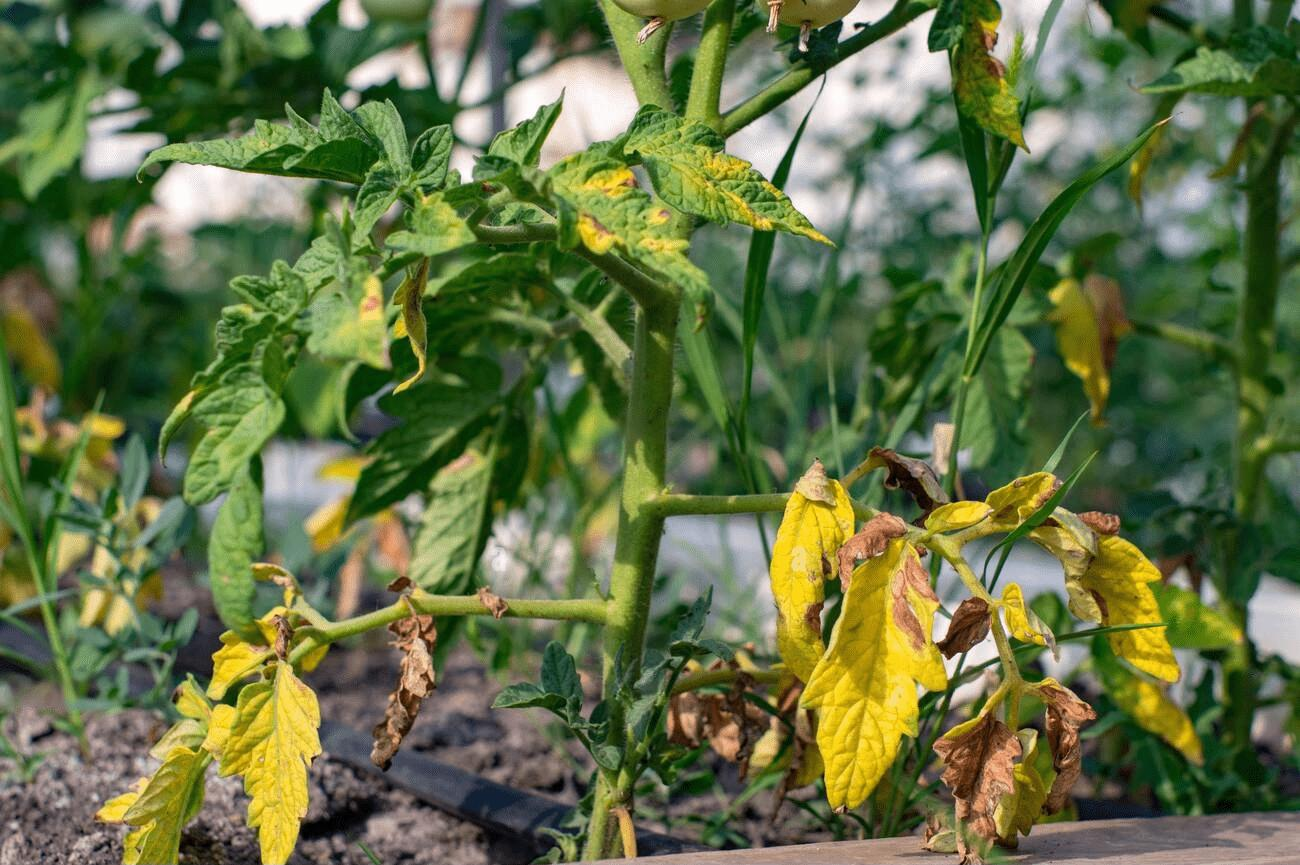Yellow Leaf Curl Virus: (796, 538, 953, 822), (622, 99, 840, 246), (1039, 486, 1186, 687), (96, 666, 238, 865), (558, 161, 719, 334), (228, 664, 326, 865), (920, 0, 1034, 160), (769, 456, 858, 653), (303, 273, 399, 376), (379, 189, 479, 258)
